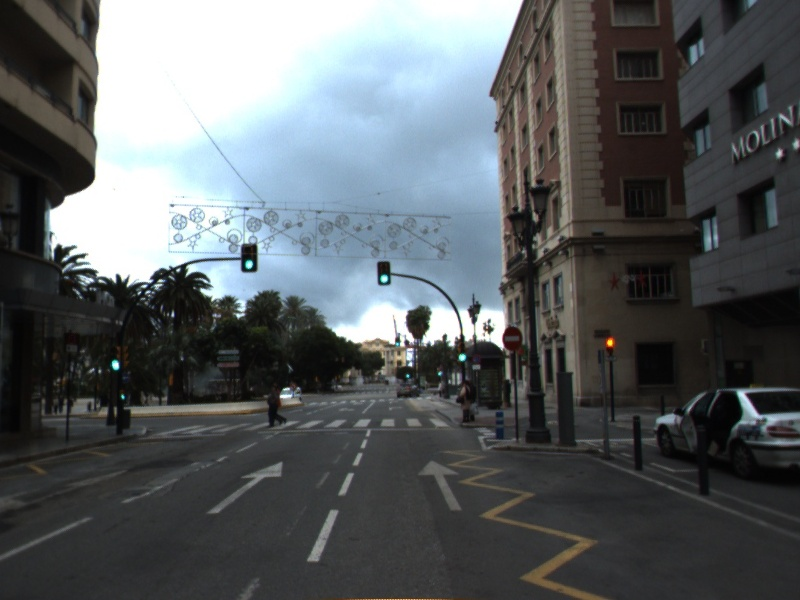STRAIGHT: (204, 459, 286, 516), (415, 458, 465, 513)
STRAIGHT_LEFT: (1, 467, 130, 513)
